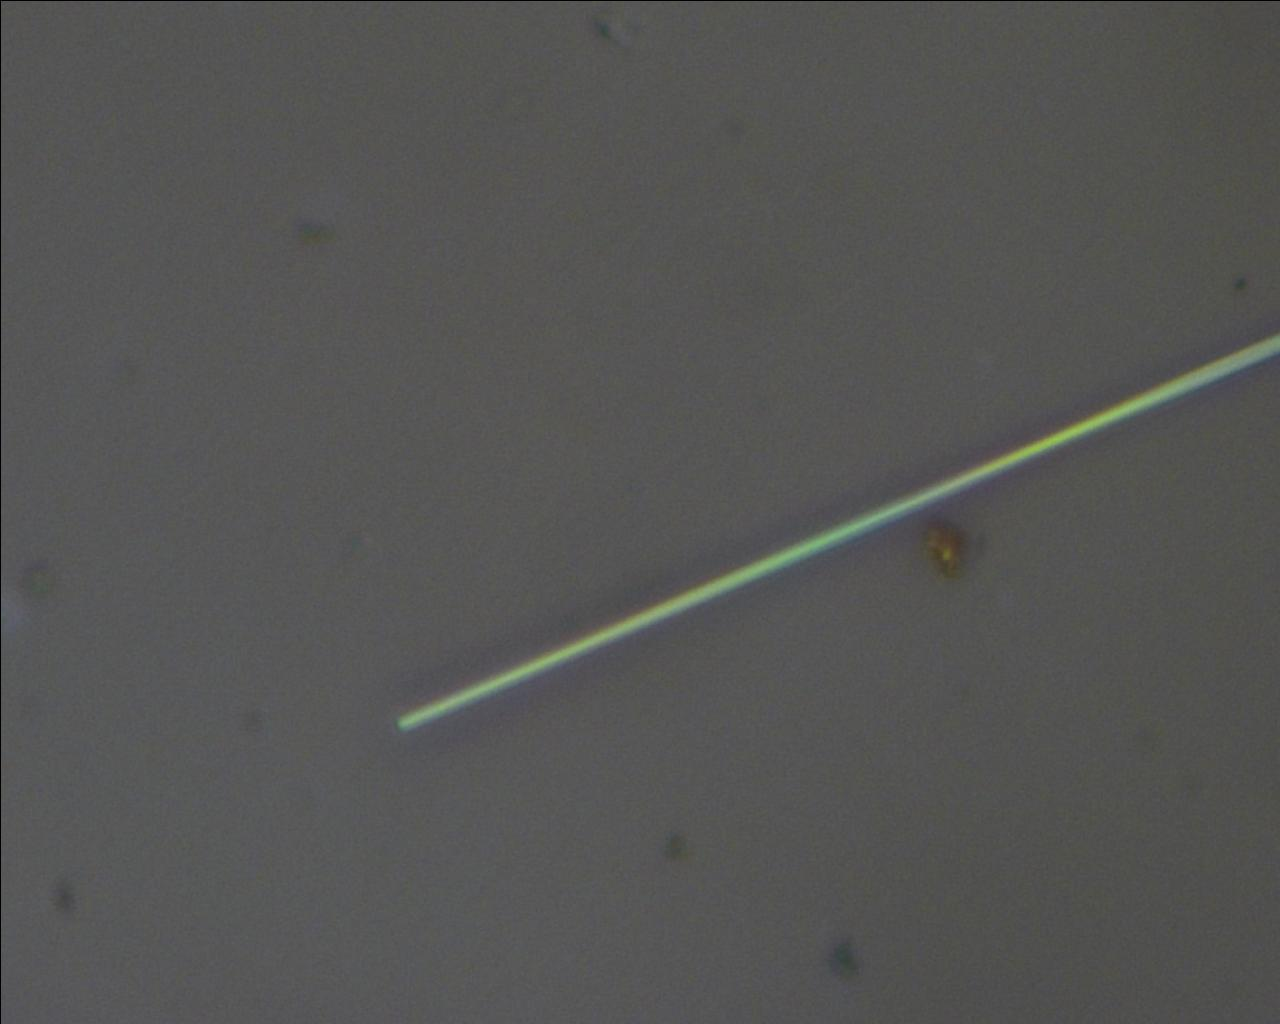fiber: (558, 0, 750, 1024)
